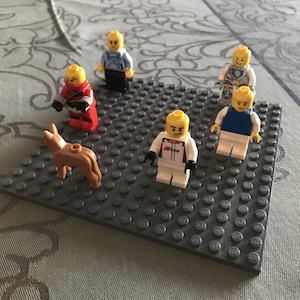Lego: (143, 109, 199, 190), (211, 84, 263, 157), (53, 64, 101, 132), (214, 45, 259, 109), (96, 29, 134, 93)
